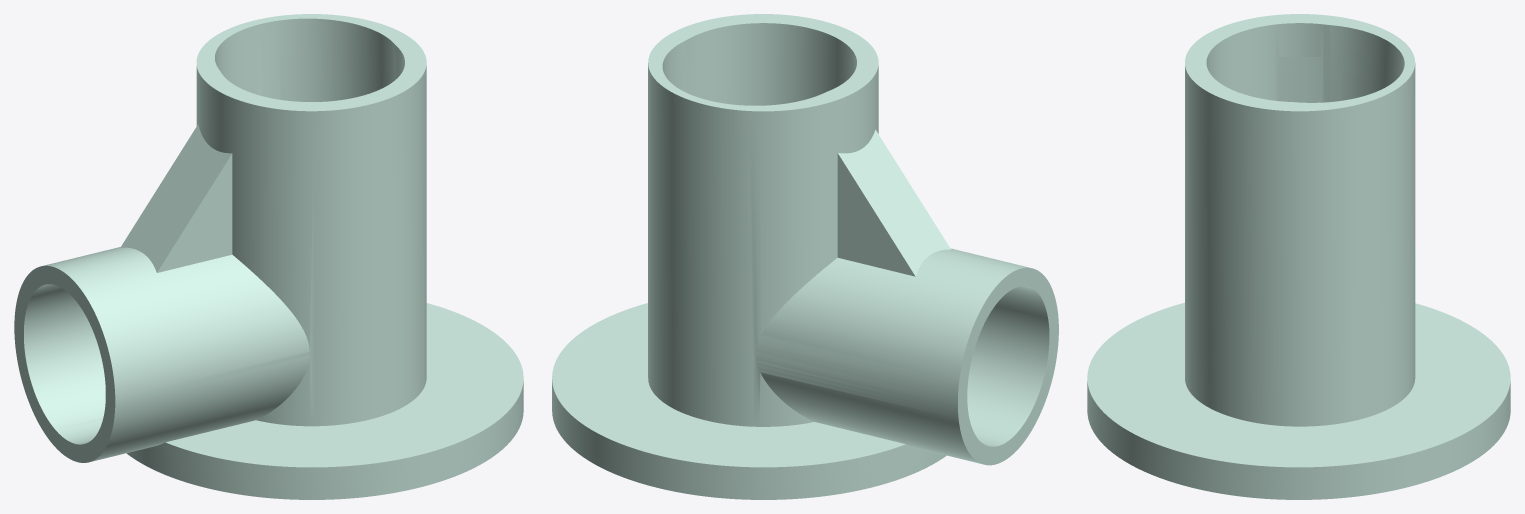
The model's file is expected.gltf.
3 renders of one model, left to right at view 1: azimuth 30°, elevation 25°; view 2: azimuth 150°, elevation 25°; view 3: azimuth 270°, elevation 25°, orthographic.
Parts seen in each view (by area): view 1: Renderer Node; view 2: Renderer Node; view 3: Renderer Node.
Boxes of the visible parts, x1,y1,x2,y2 form: Renderer Node: (14,14,523,499); Renderer Node: (552,14,1058,499); Renderer Node: (1087,14,1510,499).
Bounding box in the file's own units: 0.9682 × 0.75 × 0.8271.
